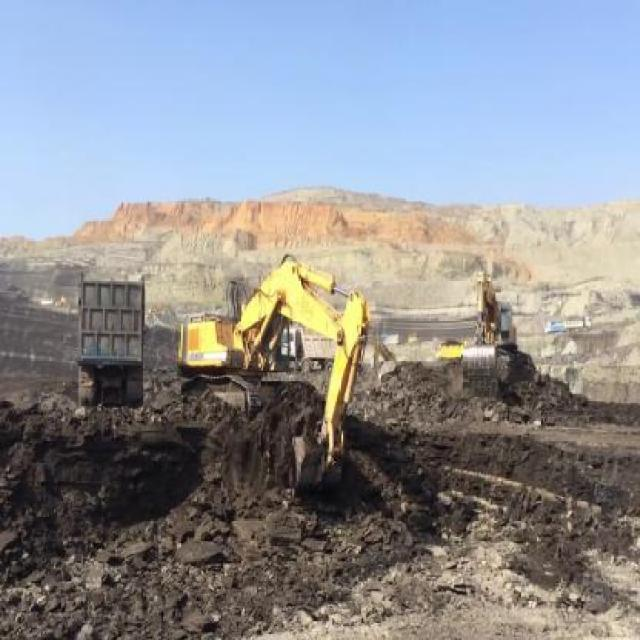dump_truck: (73, 276, 147, 413)
excavator: (174, 251, 368, 497), (466, 272, 517, 388)
